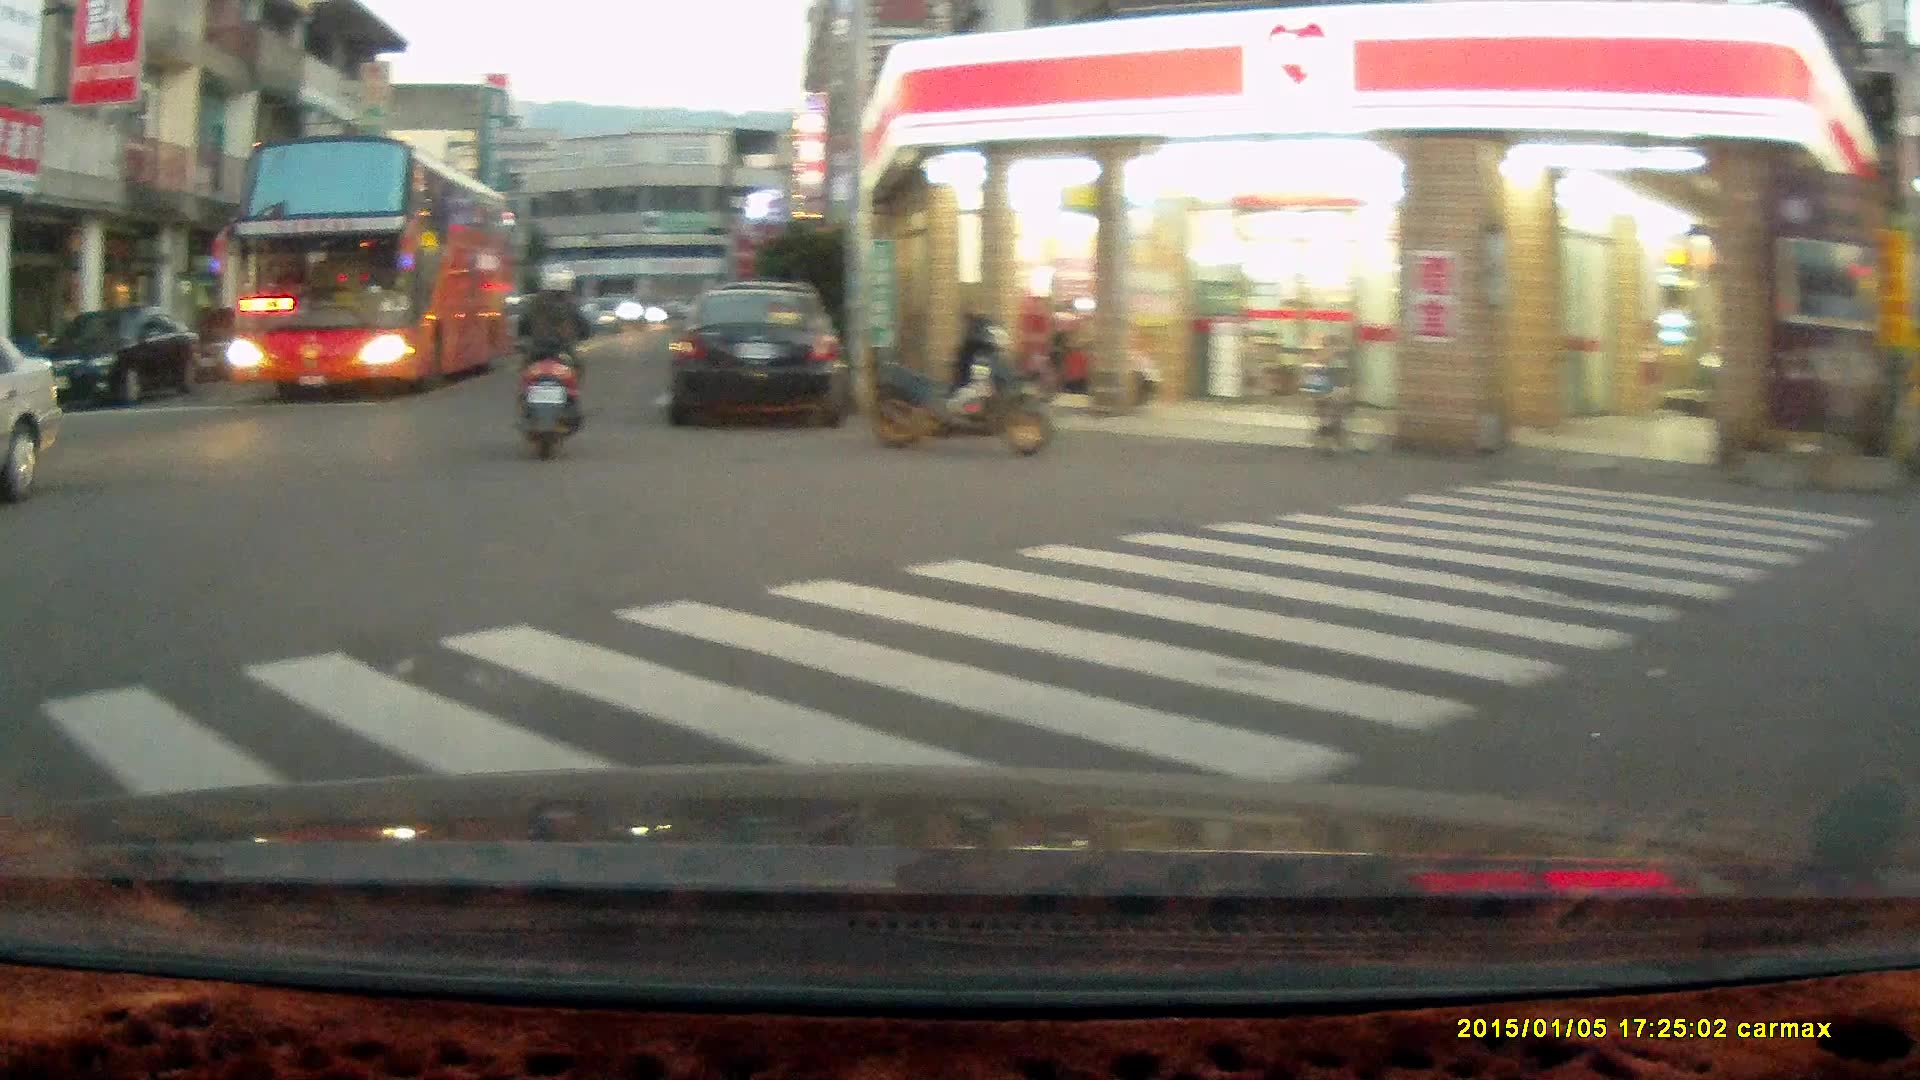rider: (503, 261, 594, 463)
vehicle: (228, 134, 525, 402), (665, 283, 853, 429), (26, 309, 205, 412)
